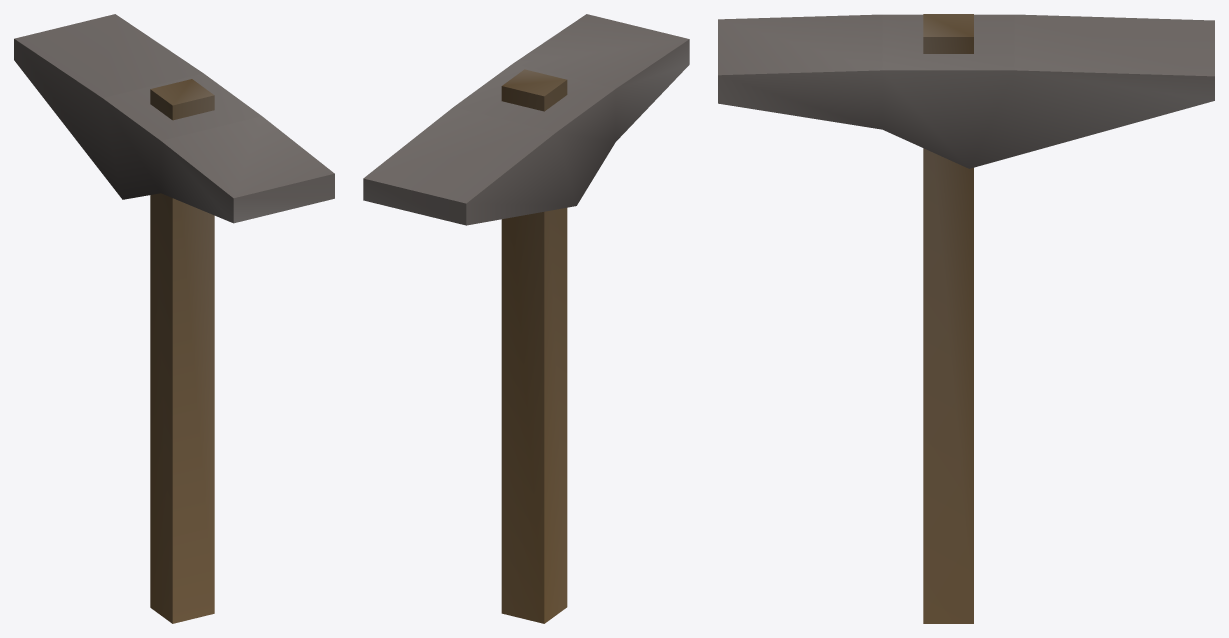
Rendered from Pickaxe.fbx.
3 views of the same model, side by side, from view 1: azimuth 30°, elevation 25°; view 2: azimuth 150°, elevation 25°; view 3: azimuth 270°, elevation 25° (orthographic). The views are drawn at different scales.
Visible parts, largest first — view 1: Cube; view 2: Cube; view 3: Cube.
Boxes of the visible parts, <box> form: Cube: <box>14,14,334,623</box>; Cube: <box>363,14,689,623</box>; Cube: <box>718,14,1214,623</box>.
Size of the model in its own units: 200 by 979 by 751.
